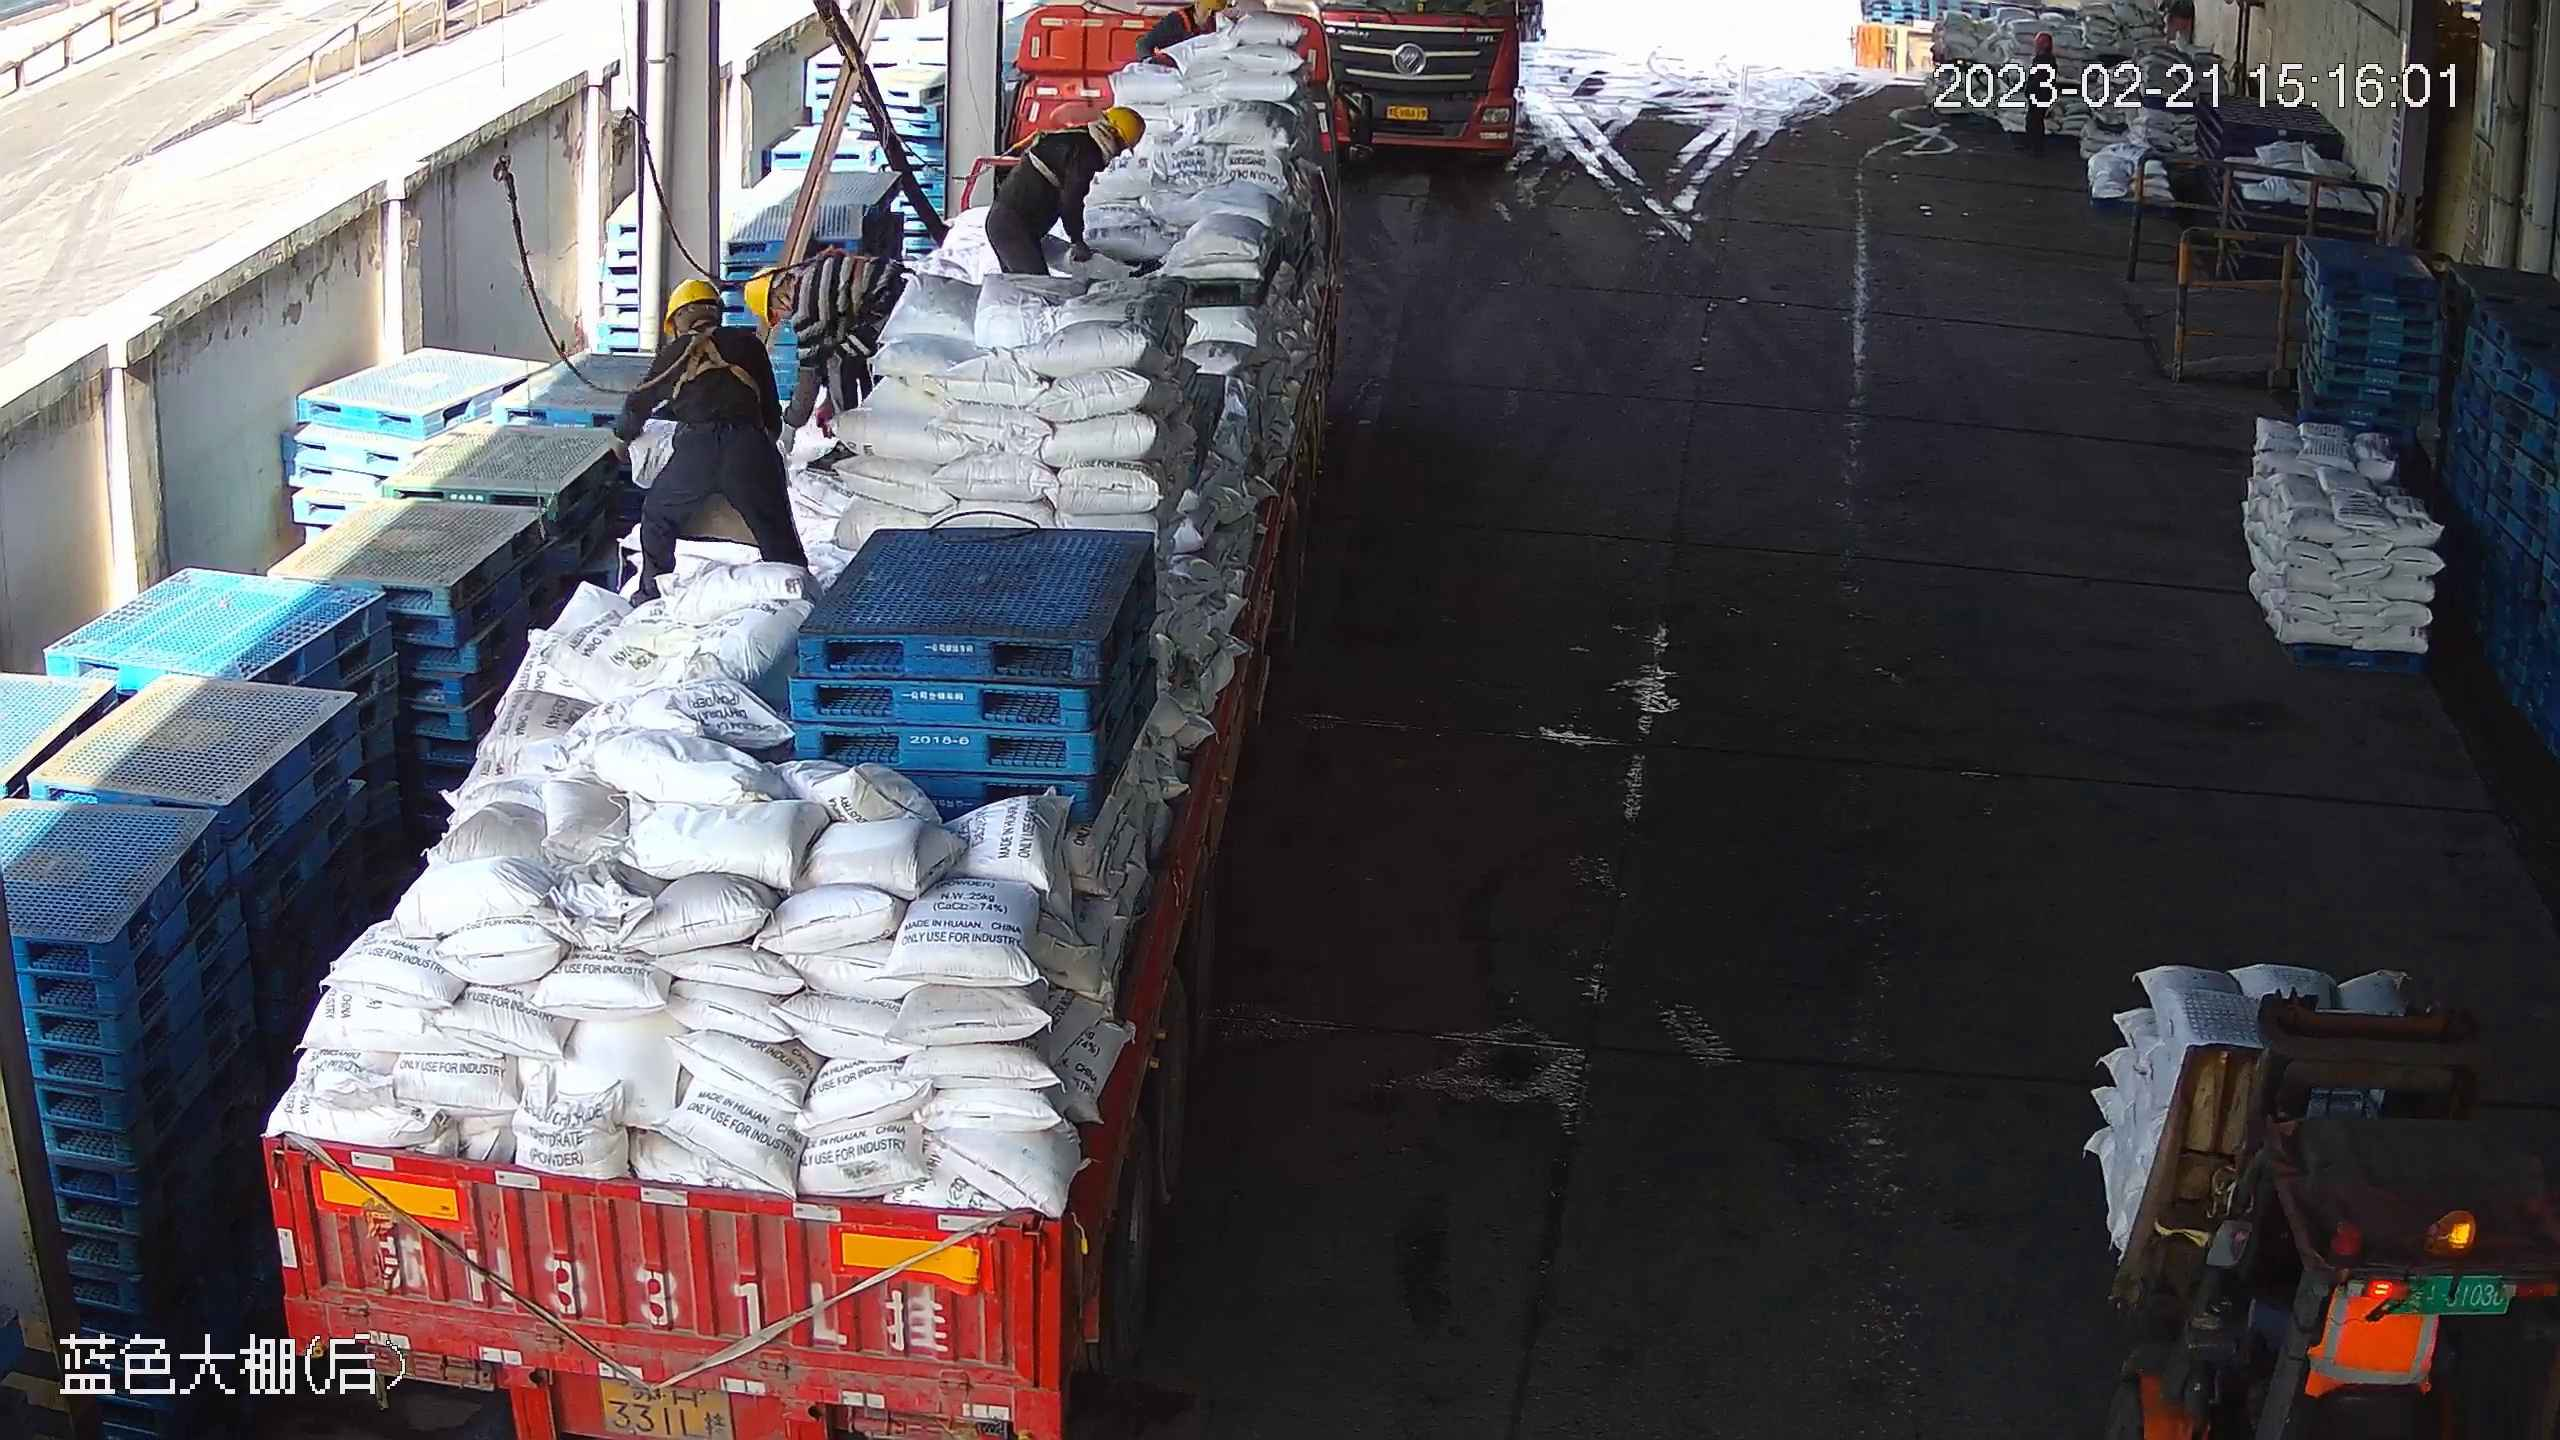belt: (1023, 121, 1112, 192), (664, 323, 748, 397), (792, 247, 861, 278)
head: (636, 292, 775, 384), (1044, 108, 1142, 188), (743, 258, 833, 344)
helmet: (744, 264, 788, 327), (664, 284, 733, 323), (1107, 94, 1144, 145)
people: (594, 275, 823, 599), (981, 94, 1148, 292)
truck: (251, 7, 1361, 1440), (1307, 1, 1531, 175)
